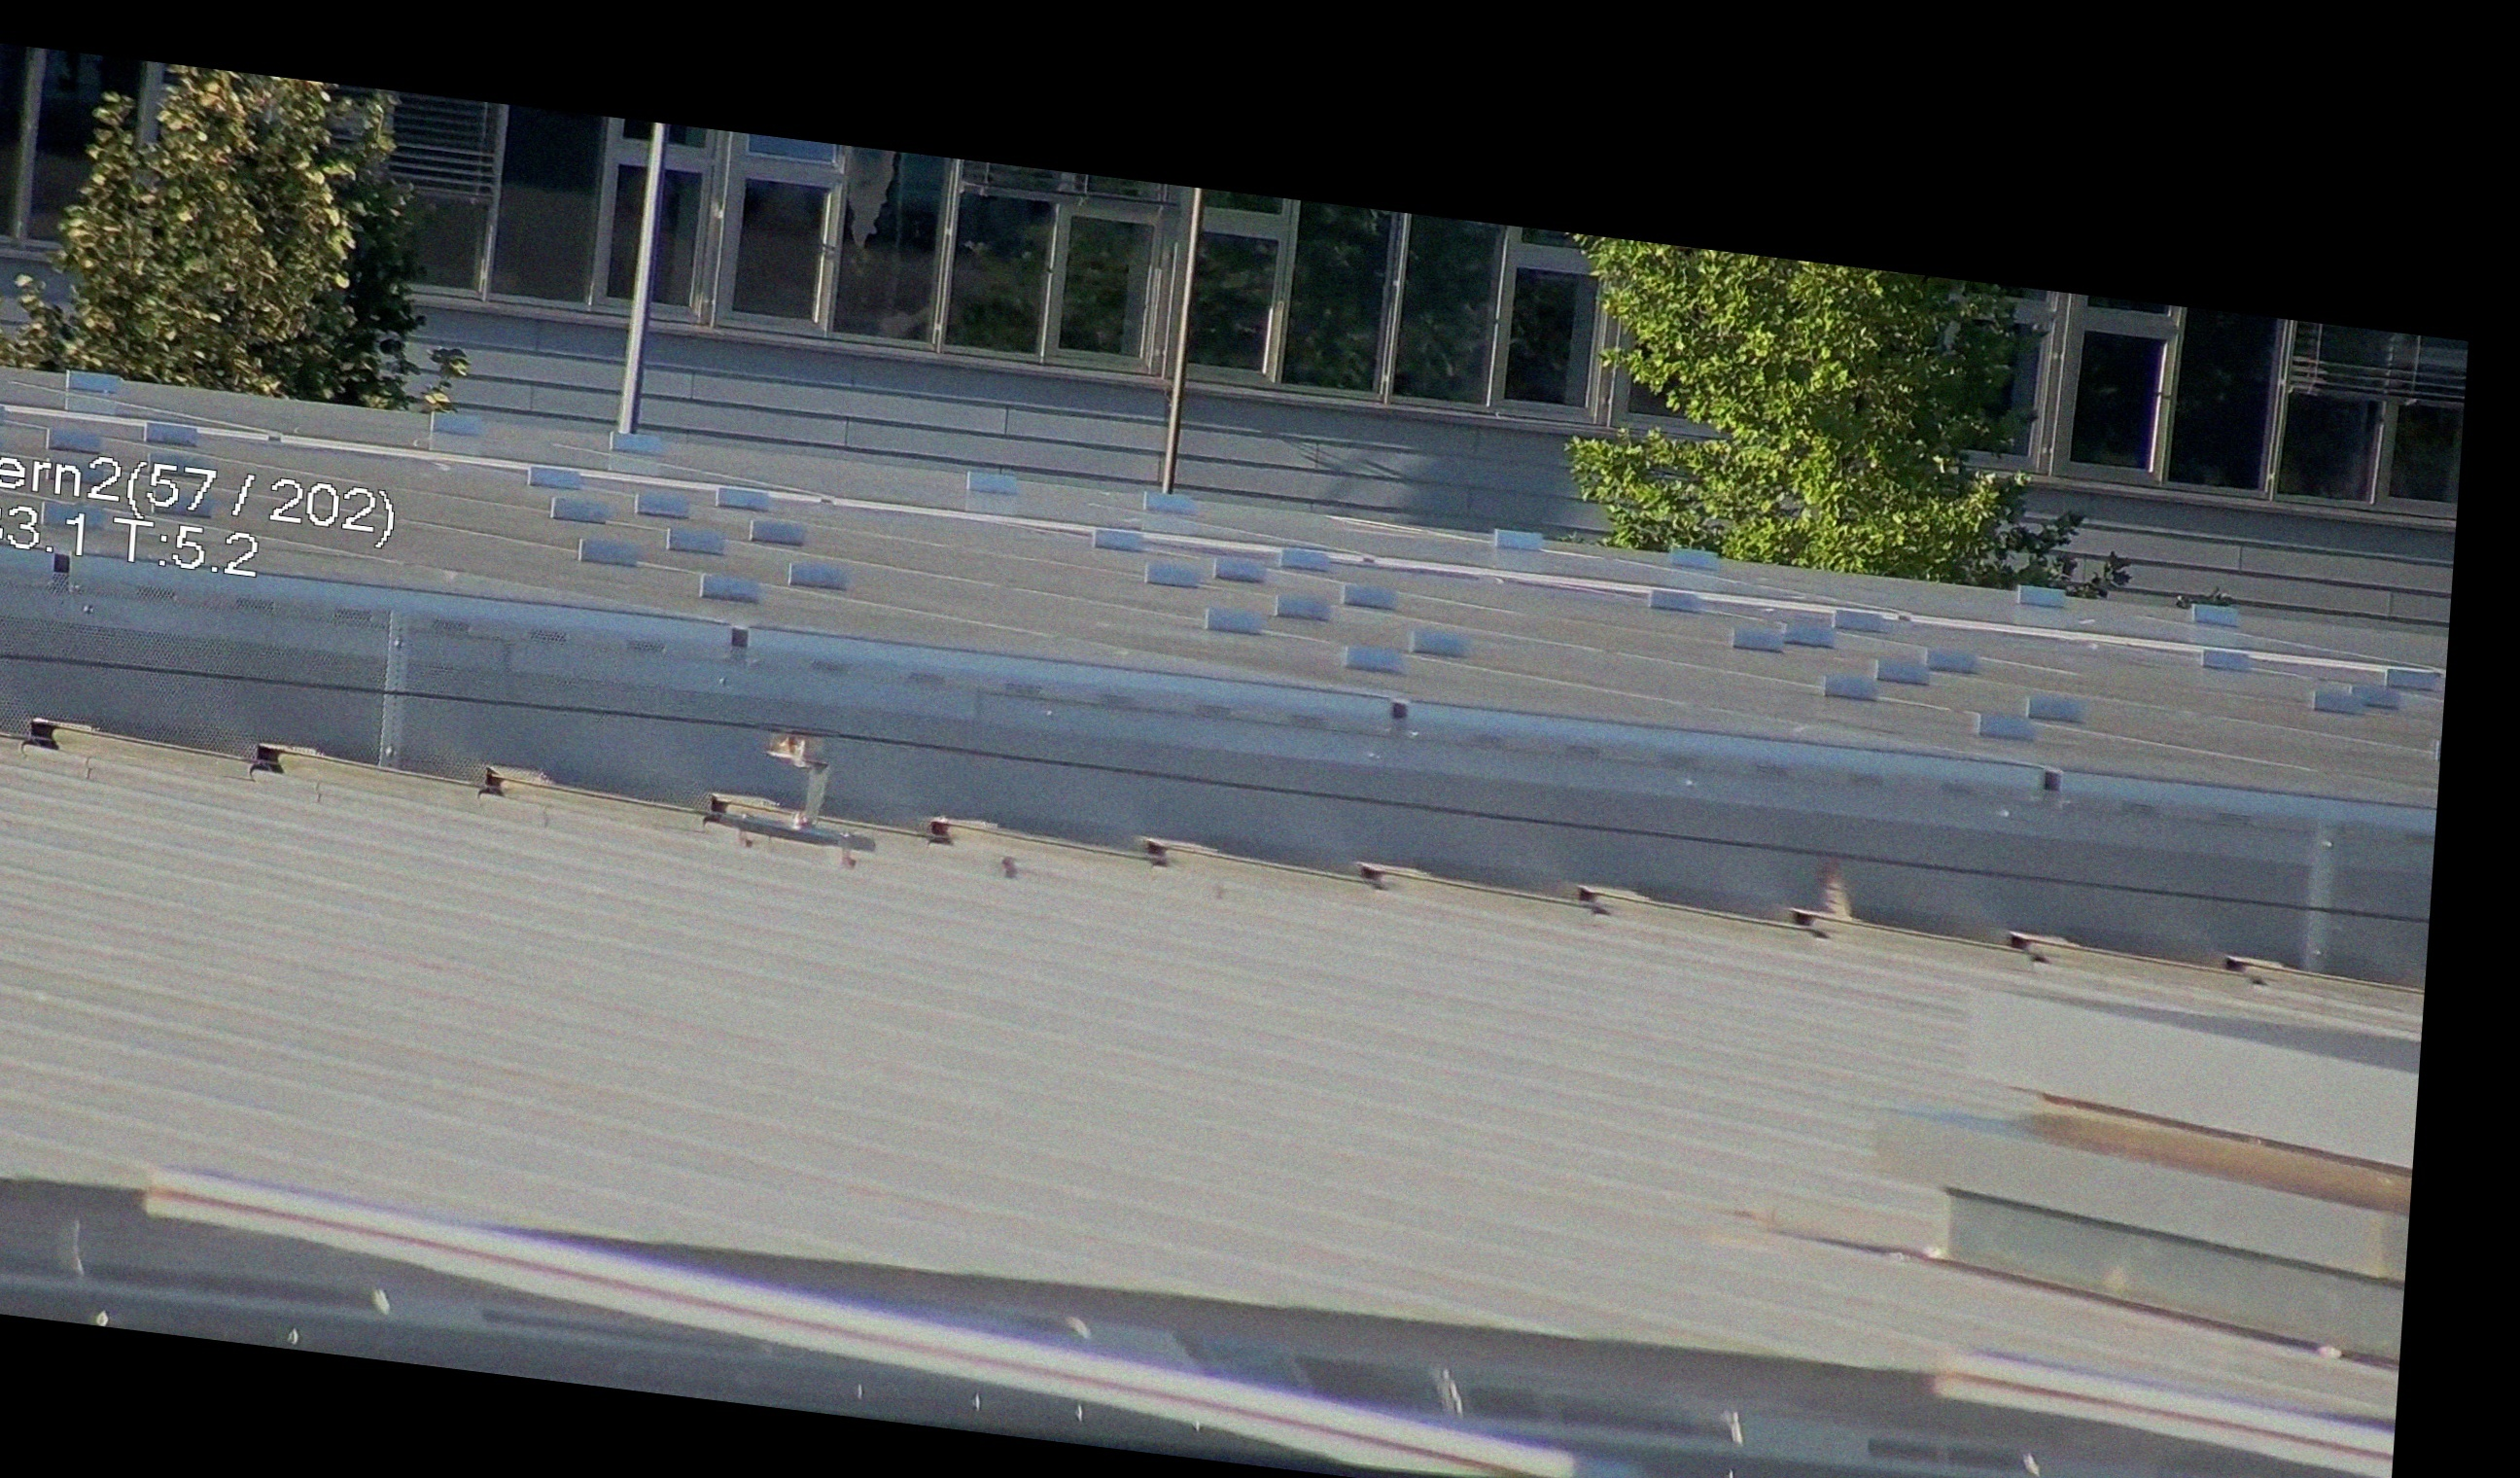Other: (1795, 848, 1869, 945)
